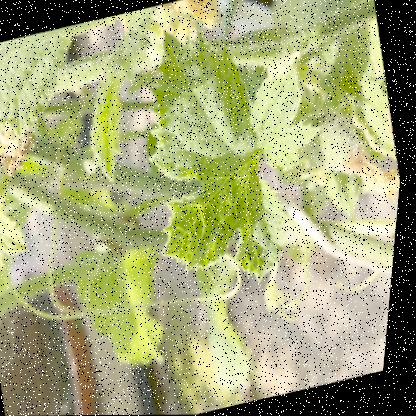Normal: (107, 0, 365, 308)
